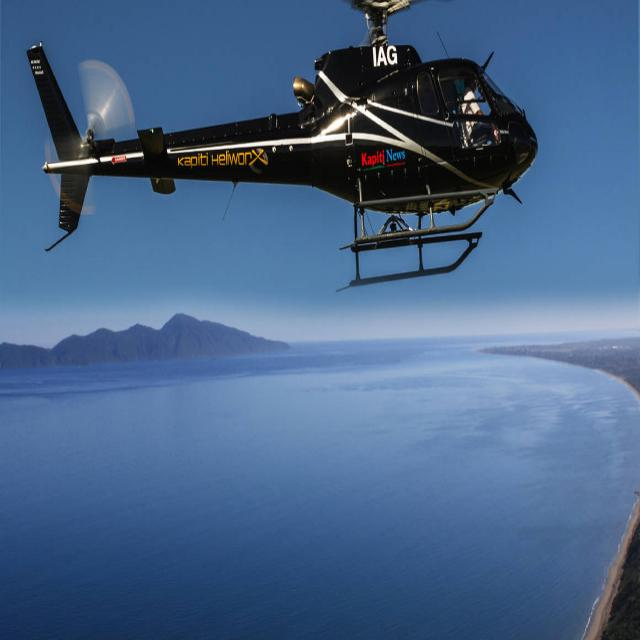helicopter: (6, 2, 557, 306)
